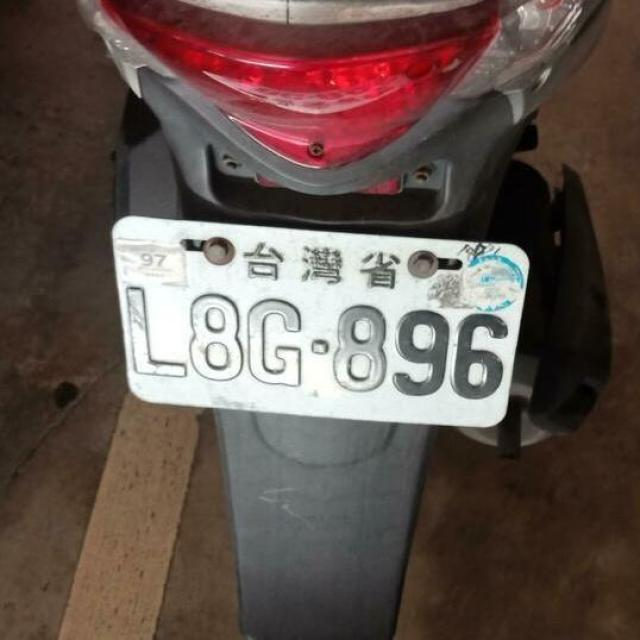W: (93, 197, 539, 451)
